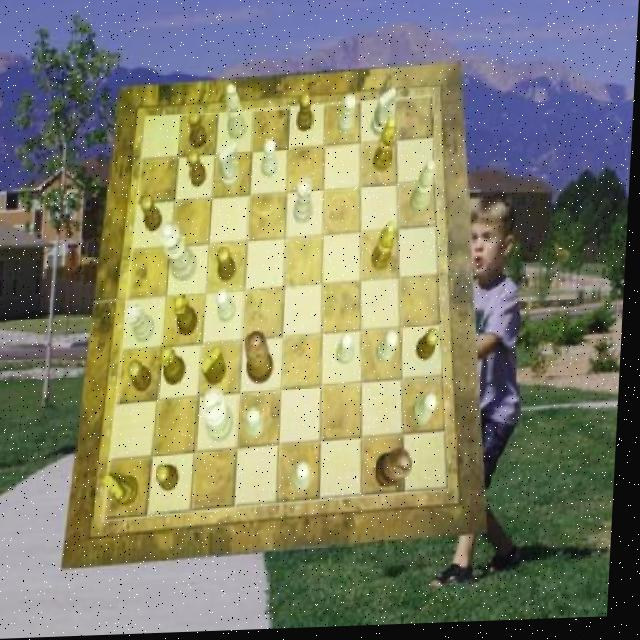bishop: (374, 119, 398, 174), (373, 225, 398, 275)
black-bishop: (378, 451, 417, 490)
black-king: (107, 474, 145, 509), (206, 348, 232, 387)
black-knight: (143, 197, 167, 235), (189, 110, 211, 150), (131, 361, 157, 394), (189, 151, 211, 189), (420, 331, 444, 365), (219, 248, 241, 283), (299, 95, 316, 134), (160, 467, 185, 493)
black-pawn: (247, 333, 279, 388)
black-queen: (163, 348, 192, 389), (177, 295, 203, 338)
black-rook: (411, 162, 438, 218), (226, 85, 251, 142)
white-bishop: (205, 388, 240, 443)
white-king: (218, 144, 243, 192), (372, 92, 397, 140)
white-knight: (417, 397, 443, 431), (380, 332, 402, 367), (219, 291, 240, 326), (338, 97, 356, 137), (263, 141, 281, 180), (250, 408, 270, 441), (340, 334, 359, 368), (298, 464, 317, 494)
white-pawn: (159, 223, 202, 283)
white-queen: (127, 303, 159, 343), (295, 181, 316, 227)
